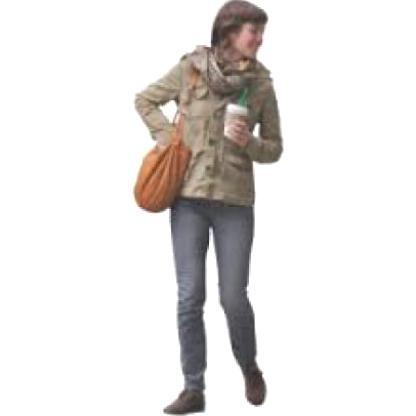person: (156, 0, 280, 415)
